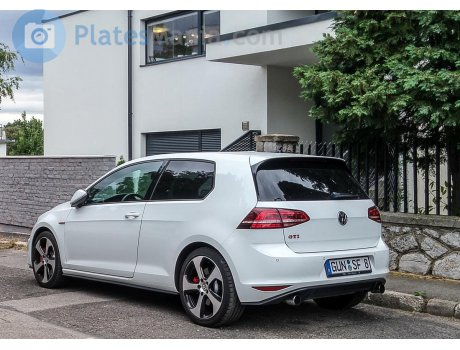License Plates: (328, 256, 372, 270)
